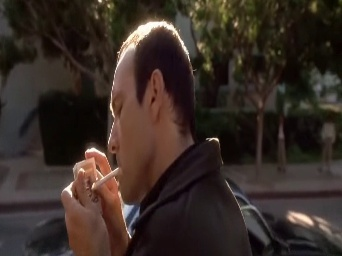smoke: (86, 165, 119, 189)
